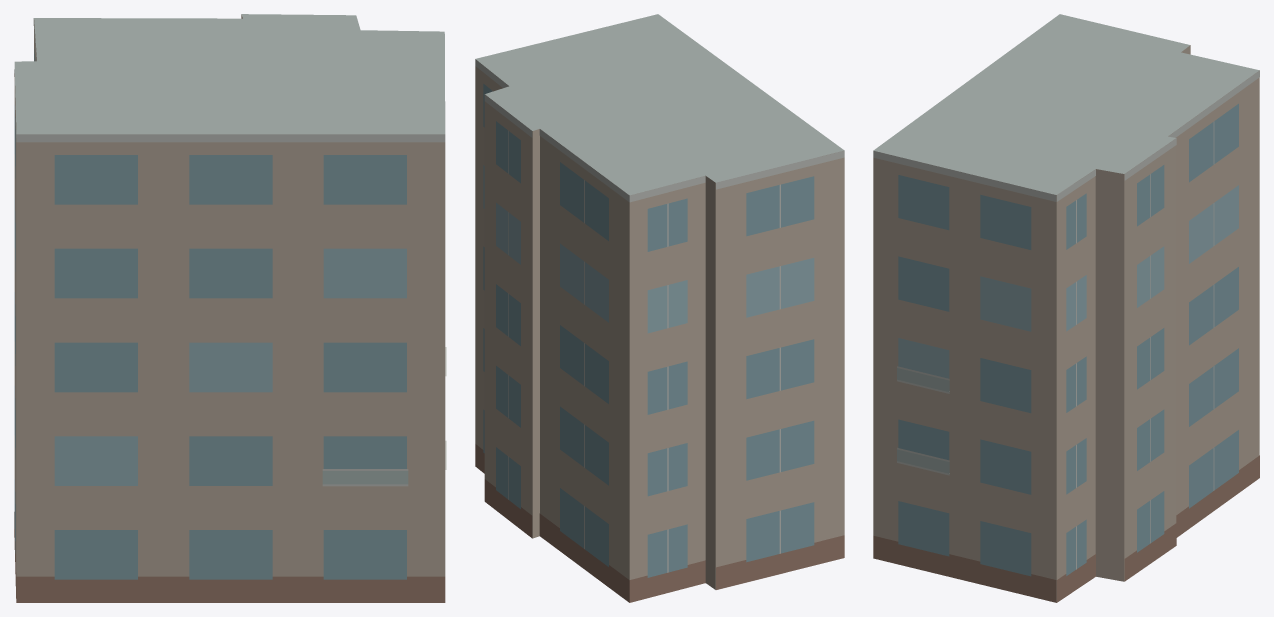
Rendered from survey-upis-32884254.glb.
3 views of the same model, side by side, from view 1: azimuth 30°, elevation 25°; view 2: azimuth 150°, elevation 25°; view 3: azimuth 270°, elevation 25° (orthographic). The views are drawn at different scales.
Parts seen in each view (by area): view 1: survey-upis-32884254.tmp; view 2: survey-upis-32884254.tmp; view 3: survey-upis-32884254.tmp.
Part boxes in pixels (x1=…): survey-upis-32884254.tmp: x1=14, y1=14, x2=446, y2=602; survey-upis-32884254.tmp: x1=475, y1=14, x2=844, y2=602; survey-upis-32884254.tmp: x1=873, y1=14, x2=1259, y2=602.
Size of the model in its own units: 13.63 by 14.3 by 12.29.
